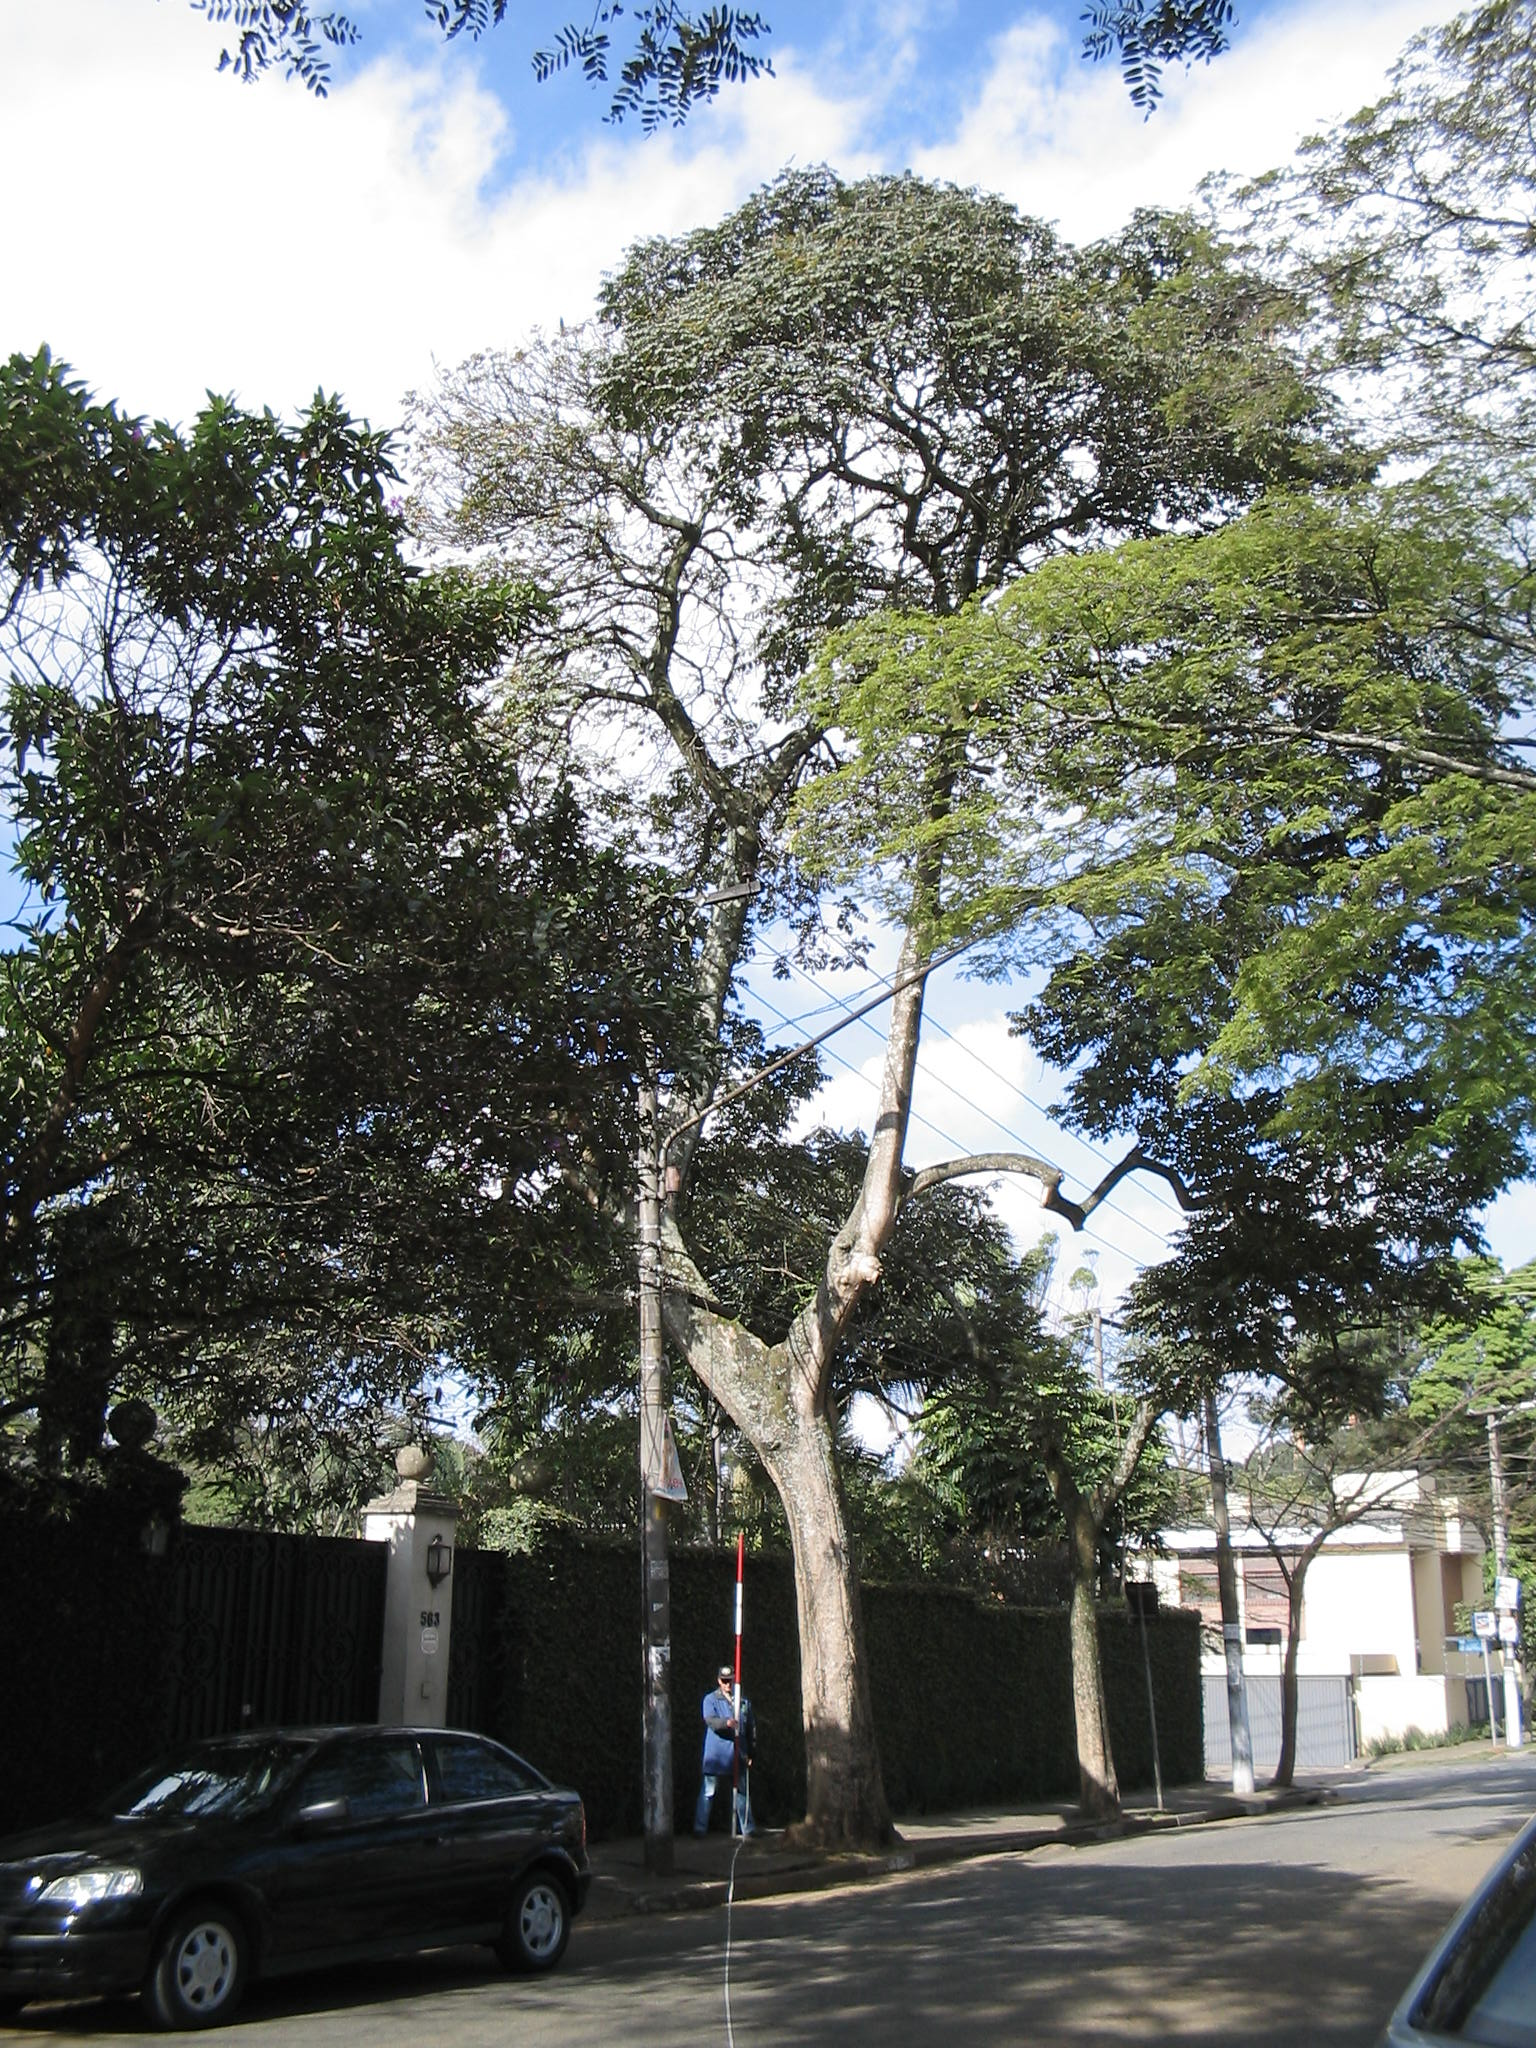crown: (279, 169, 1396, 1232), (866, 1218, 1396, 1576)
stem: (753, 1432, 912, 1854), (1041, 1585, 1146, 1825)
stick: (720, 1530, 762, 1851)
tree: (271, 168, 1397, 1854), (3, 339, 708, 1877), (866, 1206, 1492, 1830)
